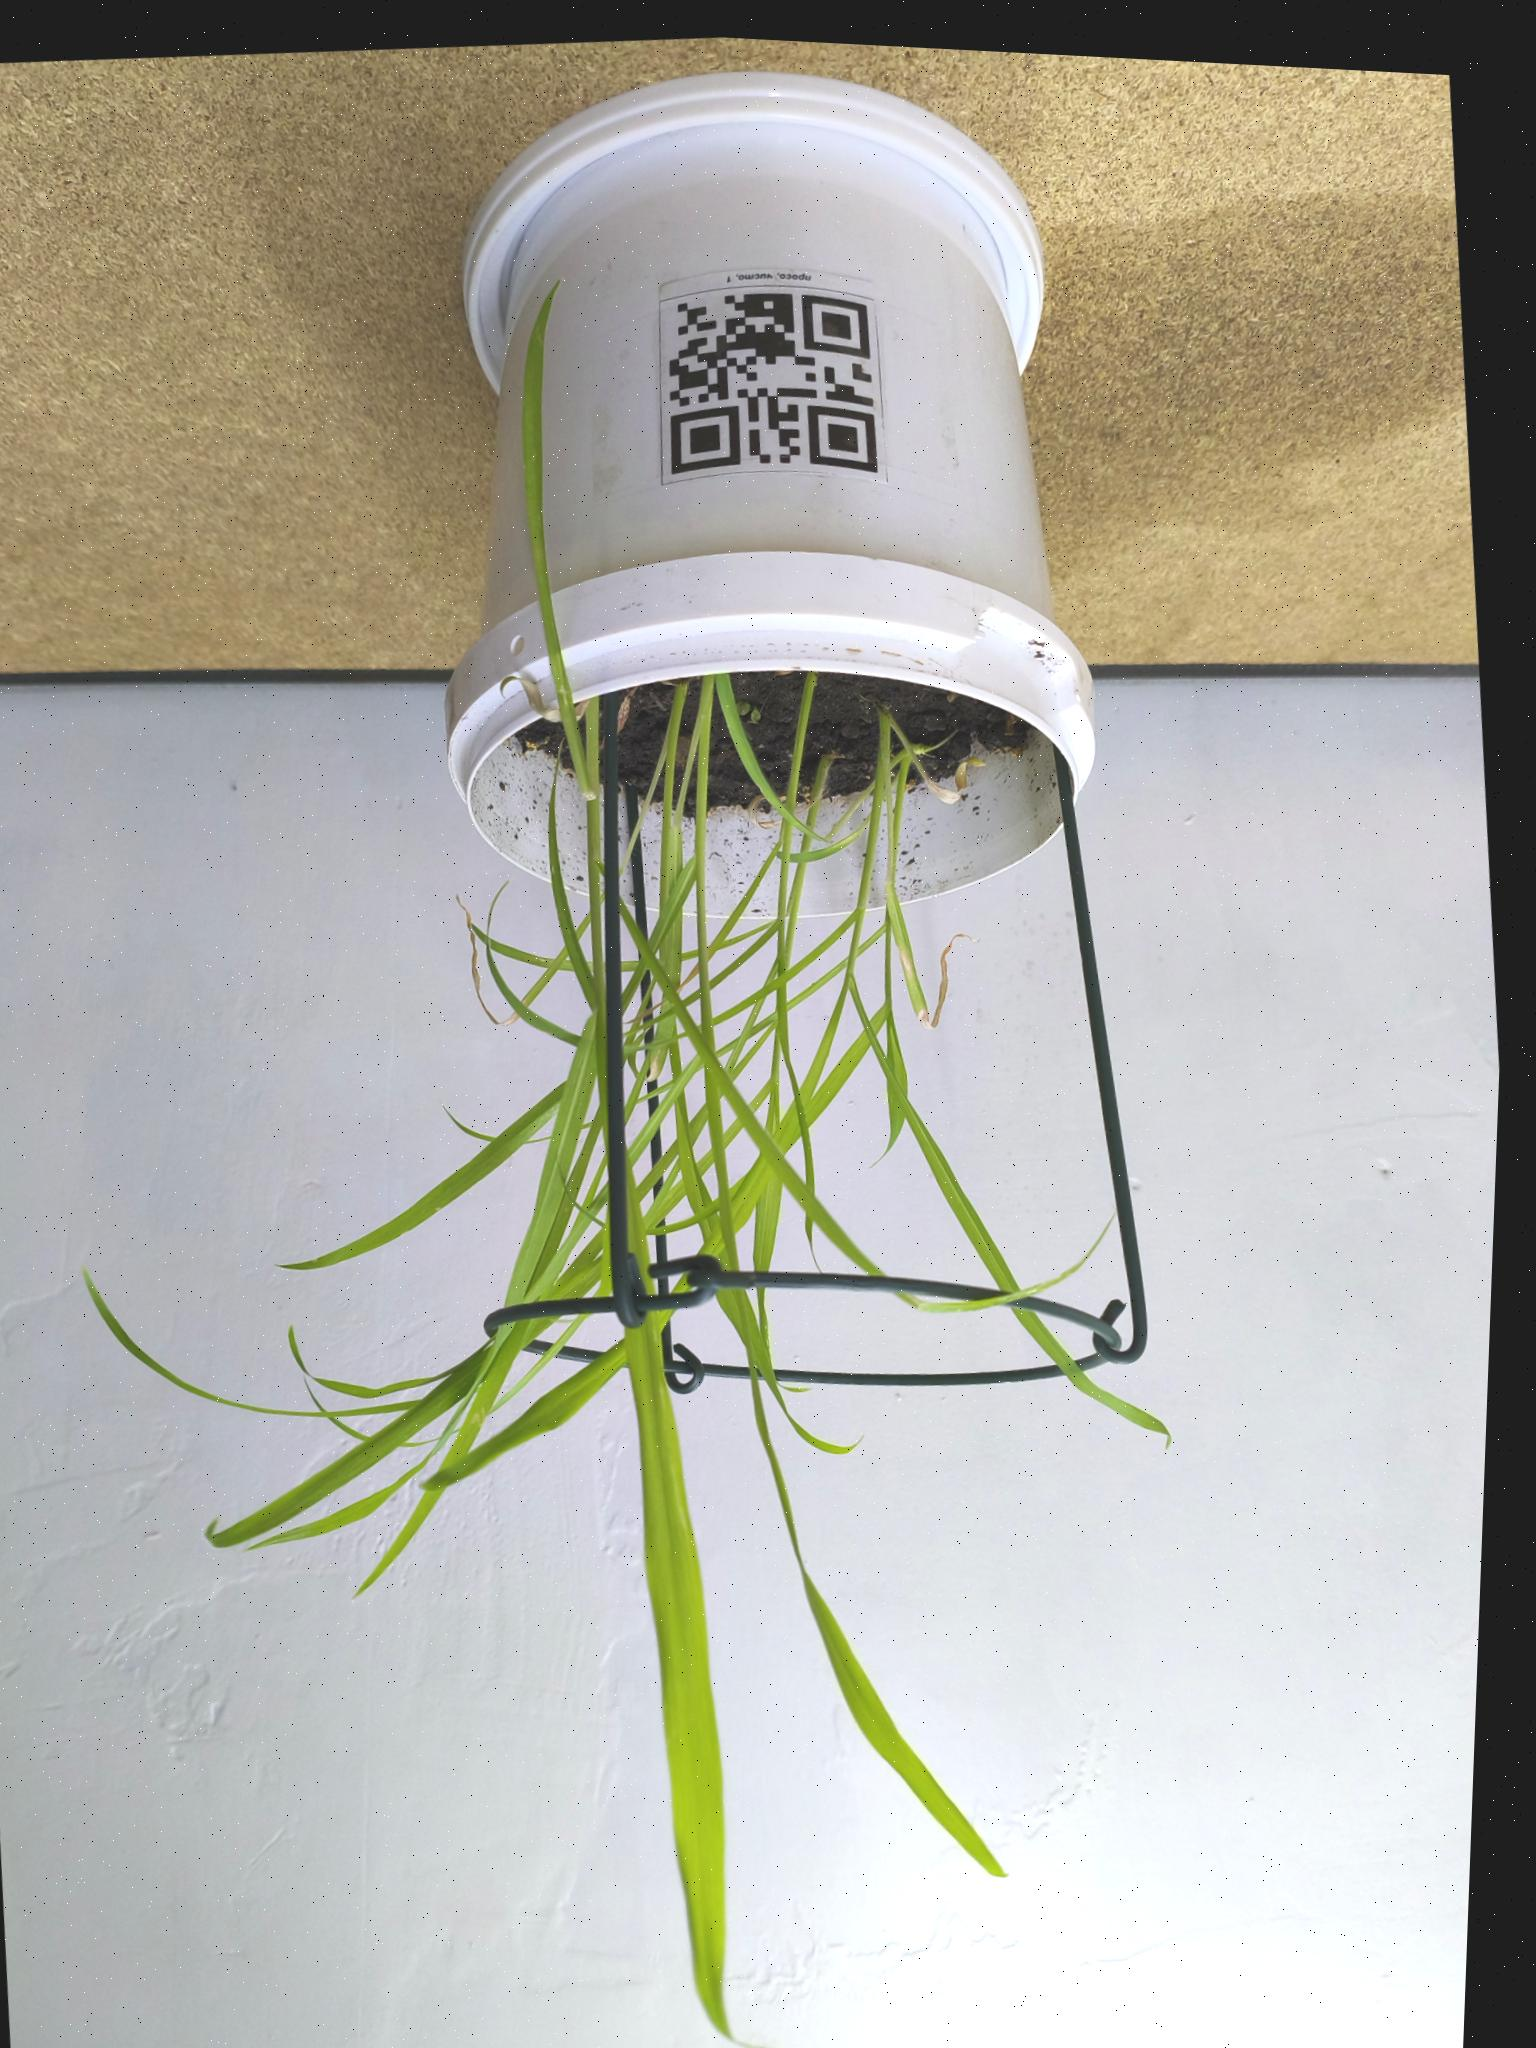container: (445, 68, 1091, 919)
stem: (845, 706, 892, 974), (776, 672, 816, 919), (784, 756, 833, 948), (694, 677, 715, 1016), (884, 758, 912, 1001), (660, 685, 686, 897), (584, 697, 603, 974)
